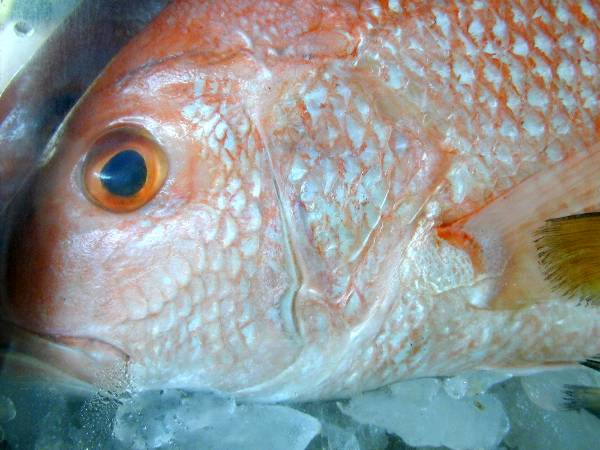fish: (2, 22, 598, 408)
